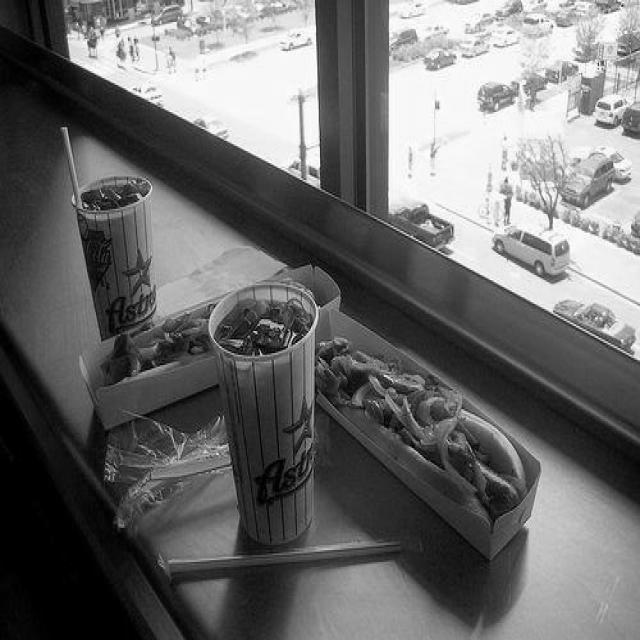vehicle: (128, 0, 638, 250), (554, 295, 637, 353), (492, 219, 571, 276), (561, 151, 617, 209), (389, 200, 457, 247), (477, 82, 517, 112), (595, 92, 629, 126), (420, 46, 458, 72), (152, 3, 184, 27), (621, 98, 640, 138), (460, 34, 491, 58), (279, 31, 313, 51), (622, 100, 640, 134), (202, 119, 228, 140), (400, 2, 429, 19), (196, 12, 221, 27)
